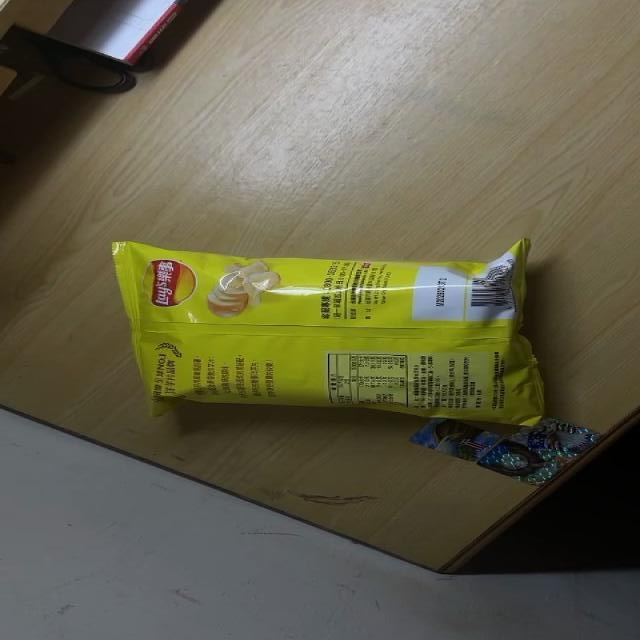Lay-s-original: (110, 238, 548, 428)
